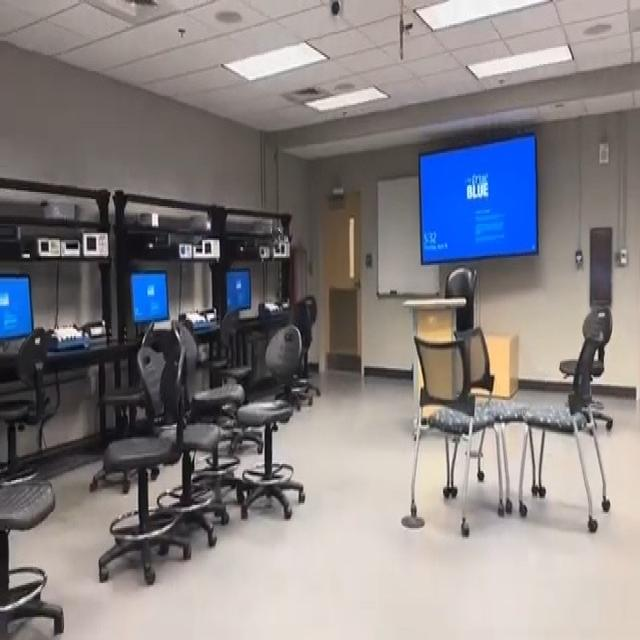drone: (261, 212, 295, 259)
